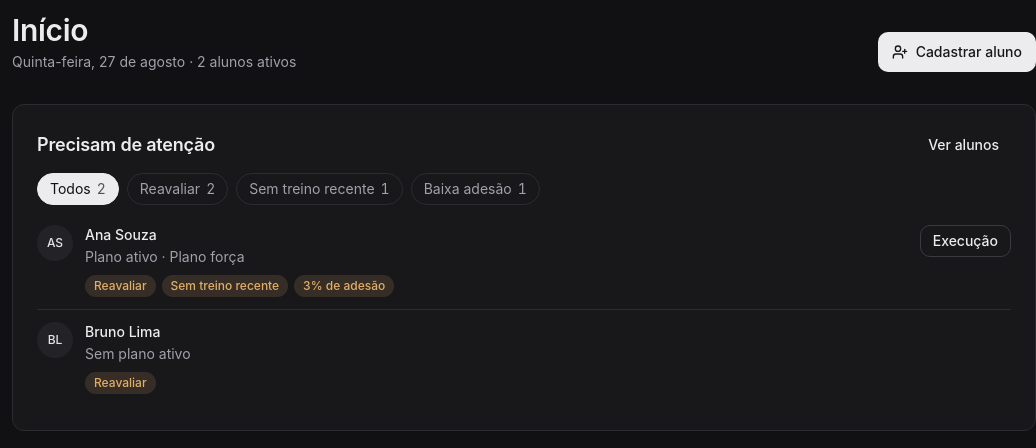
Dashboard › os números viram filtros da lista de atenção
Expected: the text "Bruno Lima" is shown, 85,323 -> 160,340
Click the button "Sem treino recente 1" at x=319, y=189, box 236,173 -> 403,205
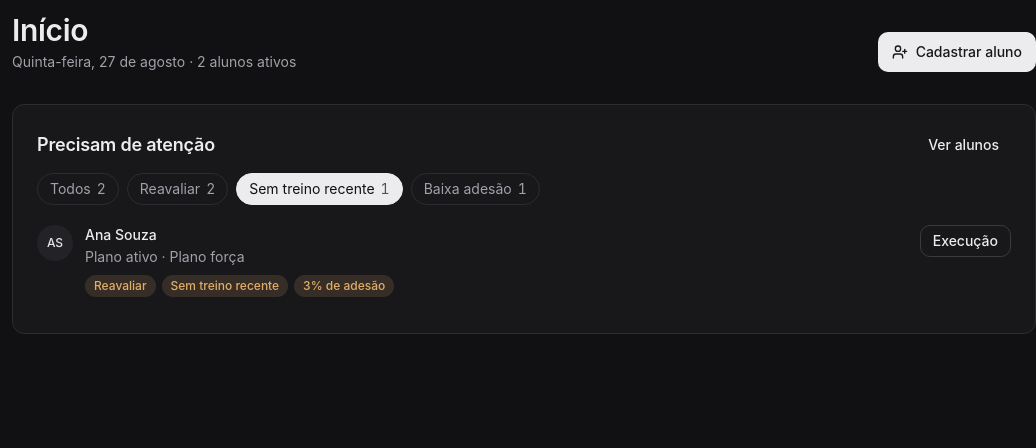
Expected: the text "Ana Souza" is shown, 85,226 -> 157,243
Expected: the link "Bruno Lima" is gone
